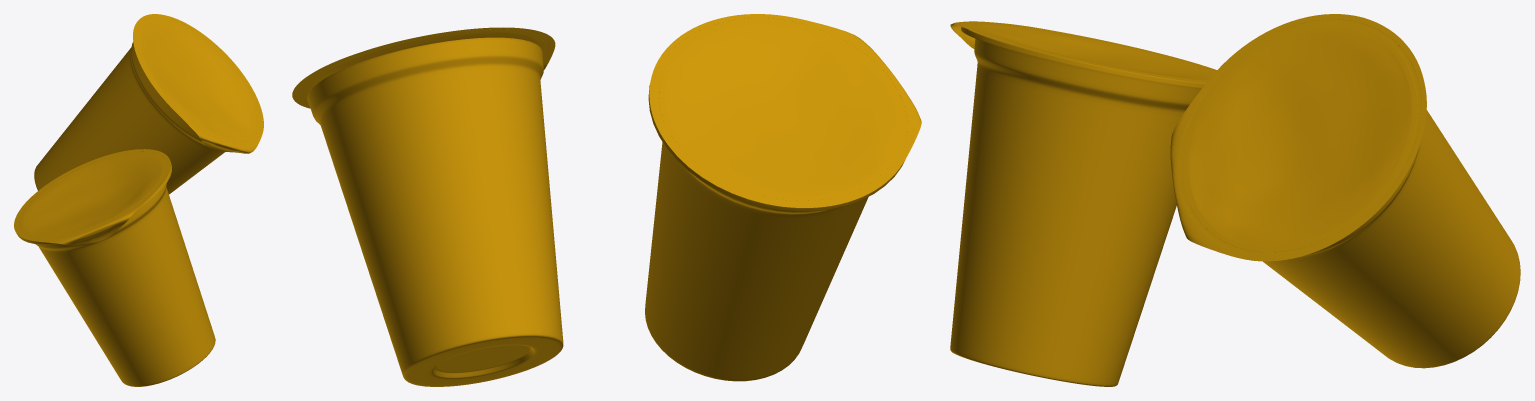
3 views of the same model, side by side, from view 1: azimuth 30°, elevation 25°; view 2: azimuth 150°, elevation 25°; view 3: azimuth 270°, elevation 25° (orthographic). The views are drawn at different scales.
Visible parts, largest first — view 1: 150g-cup-1, foil-2, 150g-cup-2, foil-1; view 2: 150g-cup-2, foil-1, 150g-cup-1, foil-2; view 3: 150g-cup-1, foil-2, 150g-cup-2, foil-1.
Part boxes in pixels (left/top/right/bottom): 150g-cup-1: left=16, top=162, right=215, bottom=386; foil-2: left=133, top=14, right=263, bottom=153; 150g-cup-2: left=34, top=42, right=224, bottom=194; foil-1: left=14, top=149, right=170, bottom=244; 150g-cup-2: left=307, top=37, right=563, bottom=386; foil-1: left=649, top=14, right=921, bottom=207; 150g-cup-1: left=645, top=85, right=904, bottom=381; foil-2: left=292, top=27, right=555, bottom=108; 150g-cup-1: left=950, top=27, right=1205, bottom=386; foil-2: left=1170, top=14, right=1426, bottom=261; 150g-cup-2: left=1263, top=110, right=1520, bottom=368; foil-1: left=950, top=21, right=1216, bottom=82.
Size of the model in its own units: 0.1494 by 0.1241 by 0.148.
